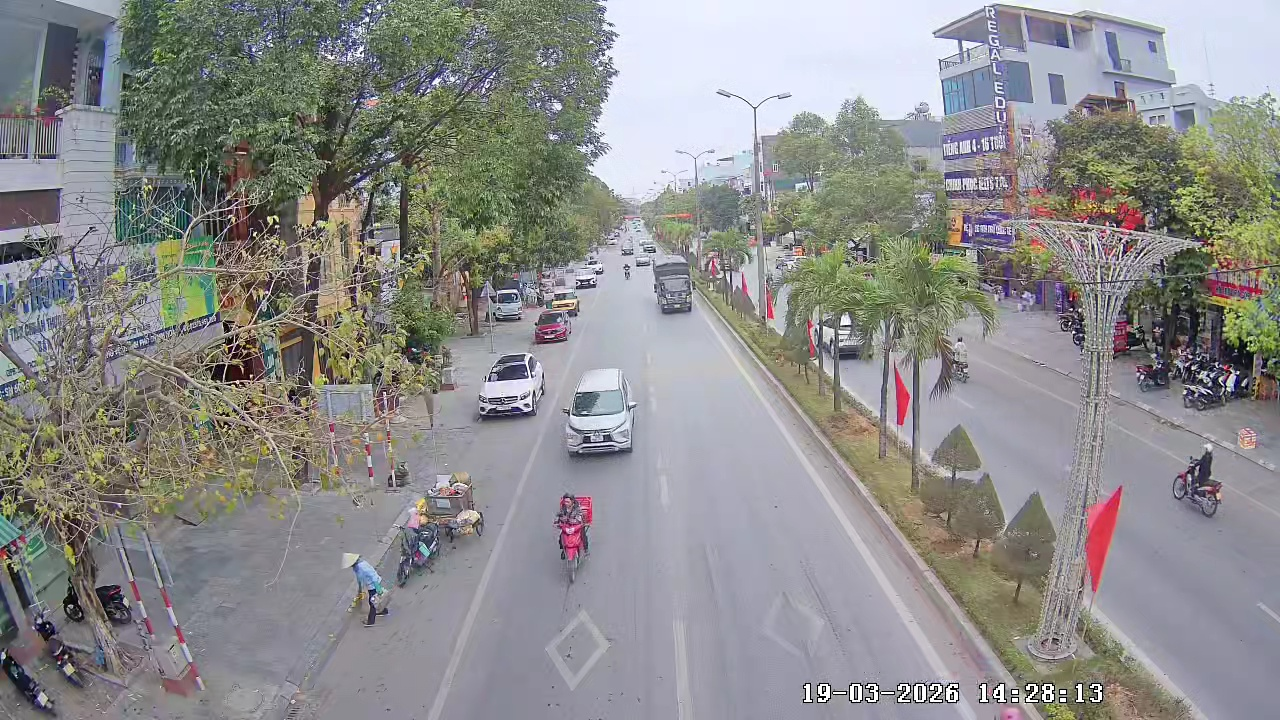bike: (552, 490, 594, 584)
car: (561, 366, 639, 457), (475, 351, 547, 418), (655, 269, 694, 314), (489, 283, 526, 322), (532, 308, 570, 344), (550, 287, 580, 318), (579, 265, 603, 289)
motorbike: (1171, 441, 1225, 518), (345, 553, 392, 626), (395, 514, 425, 589)
